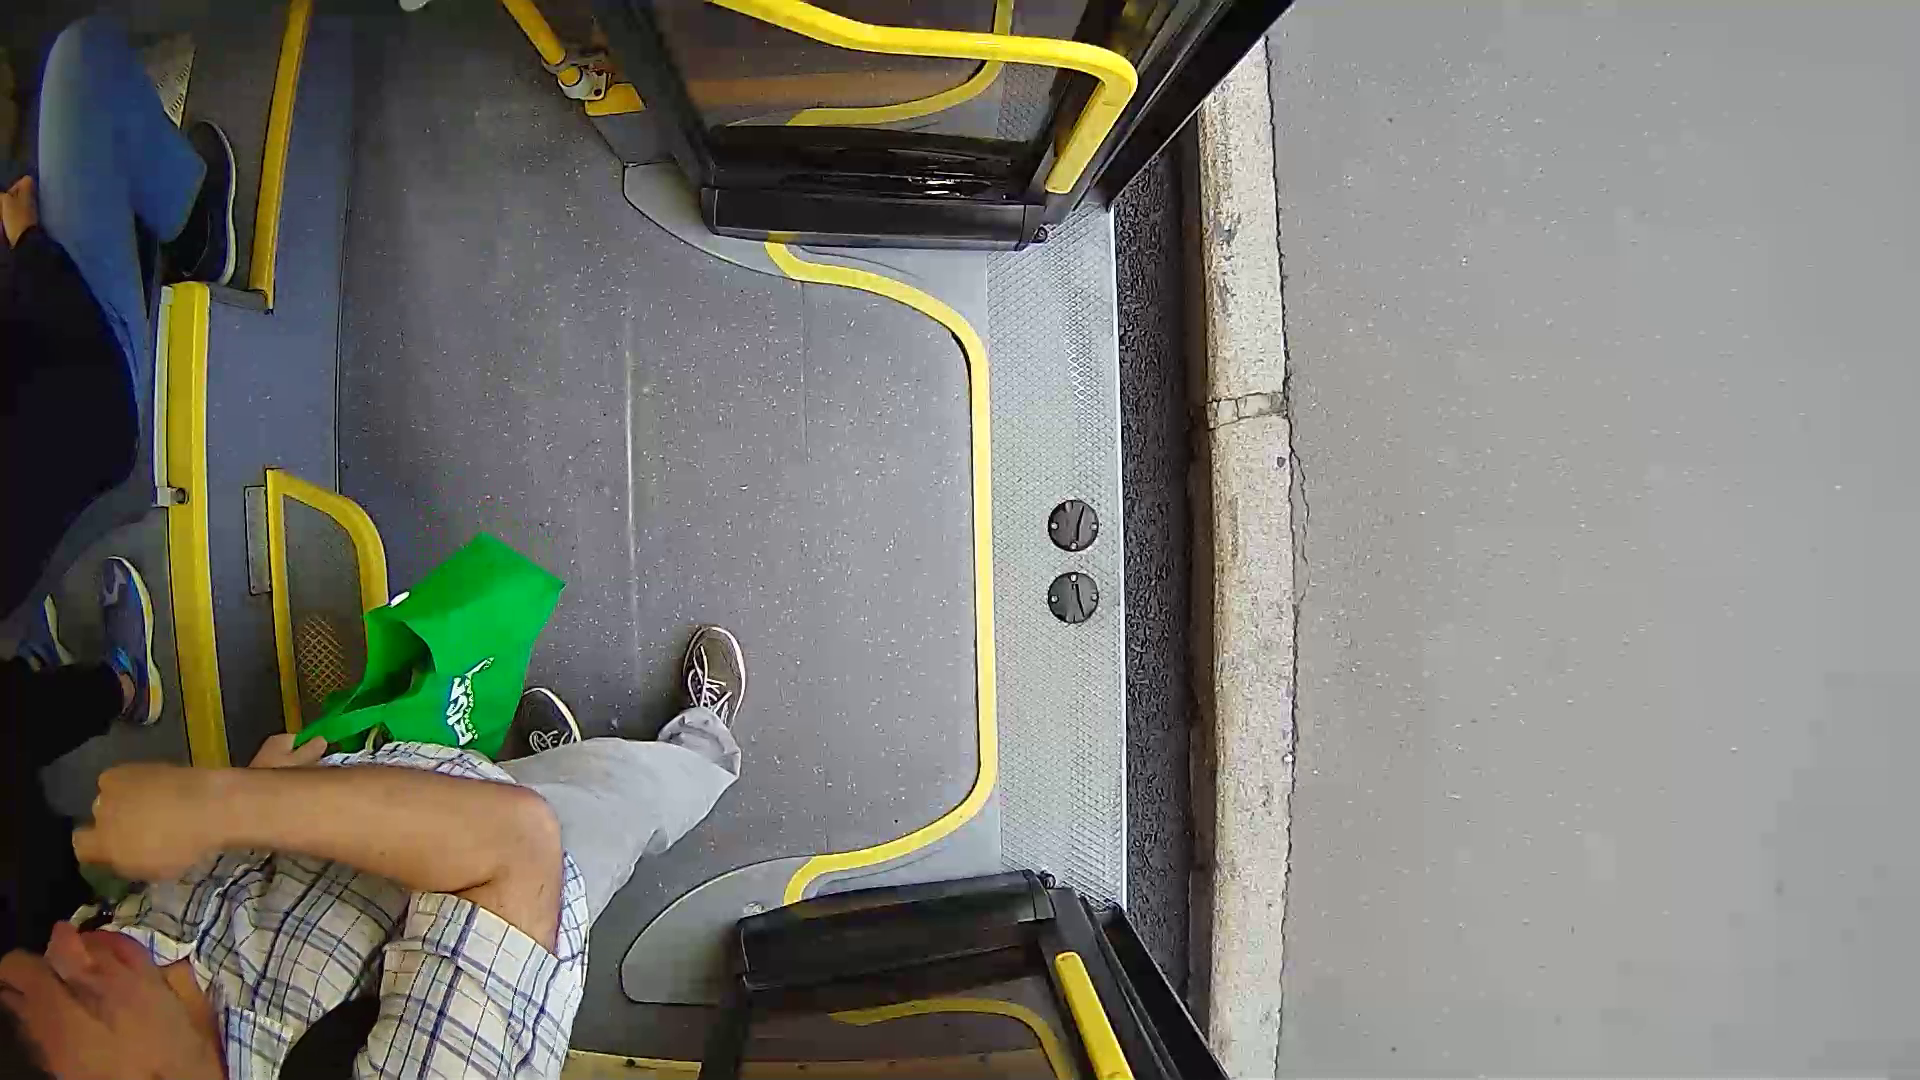person: (21, 551, 909, 1080)
